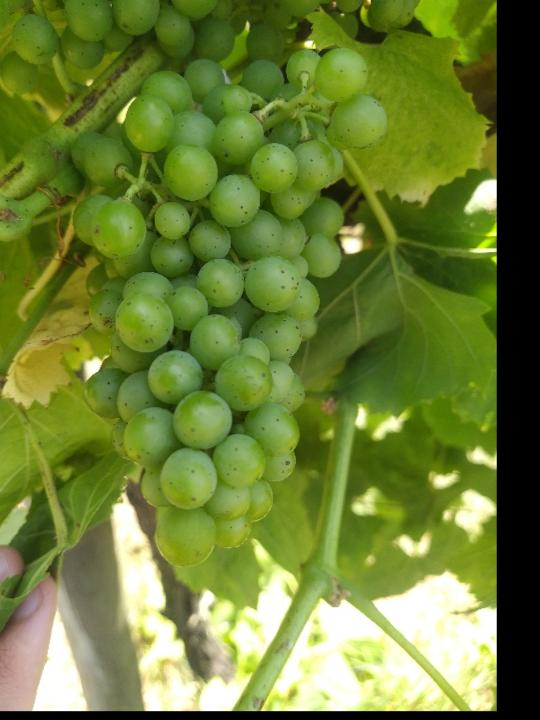grape: (69, 44, 392, 570)
